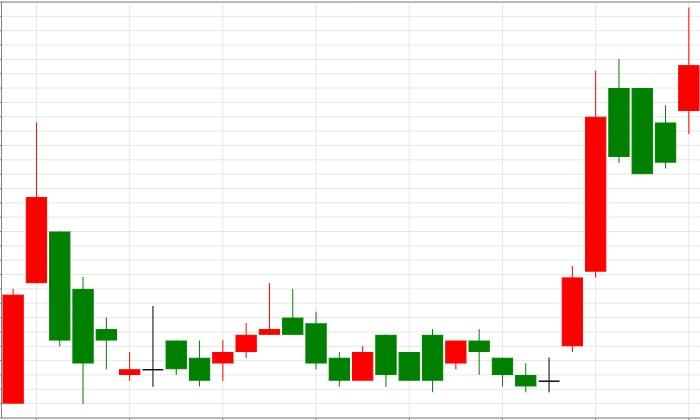shooting_star_fall: (189, 283, 304, 386)
